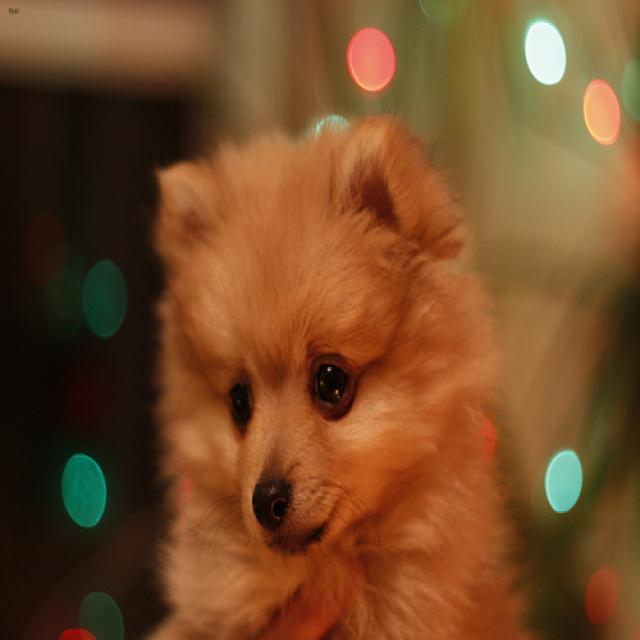dog-pomeranian: (143, 104, 548, 636)
